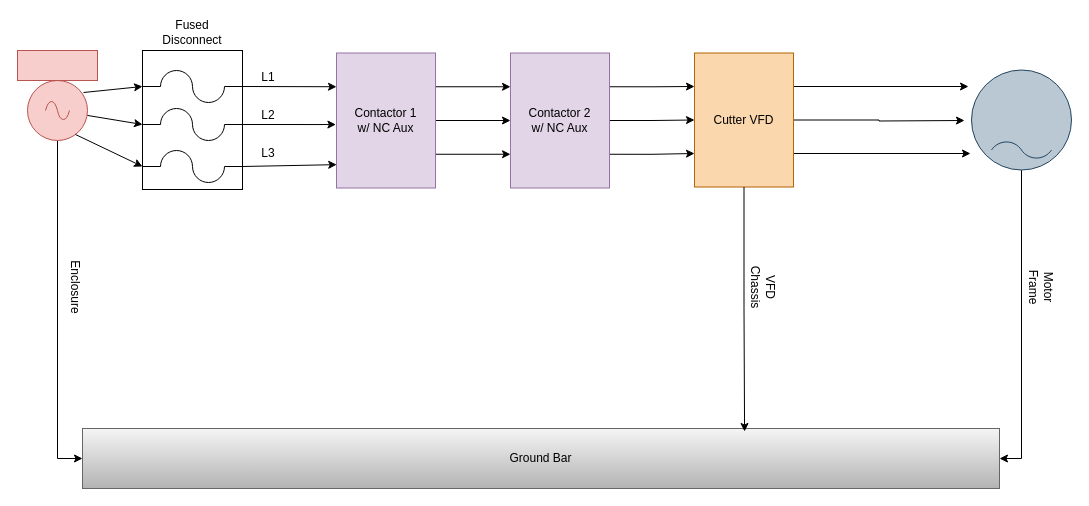
The diagram is 1089 pixels wide and 506 high, and some of its shapes have lost their labels. The centre of each missing label's shape, as x and y in pixels:
"480VAC" goes at point 57,65.
"Cutter Motor" goes at point 1021,119.
